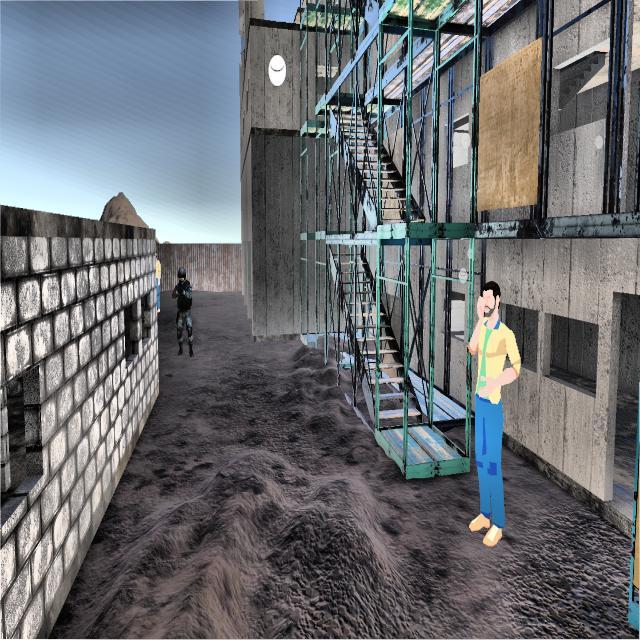bad: (172, 260, 198, 356)
good: (459, 275, 523, 557), (153, 243, 164, 316)
